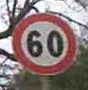limite 60: (11, 11, 77, 76)
